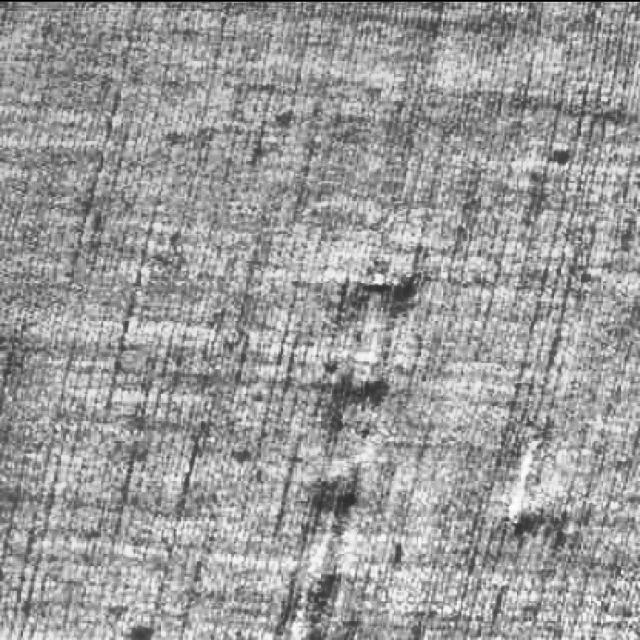thread_error: (486, 421, 563, 552)
